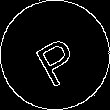P_NW: (27, 24, 83, 86)
